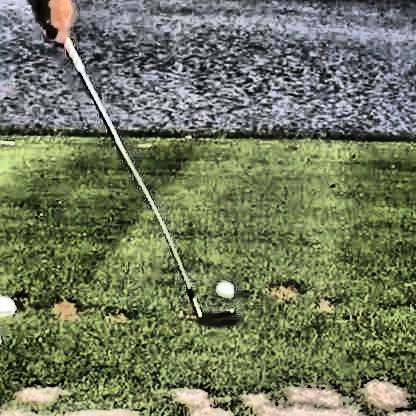golfball: (214, 279, 235, 300)
